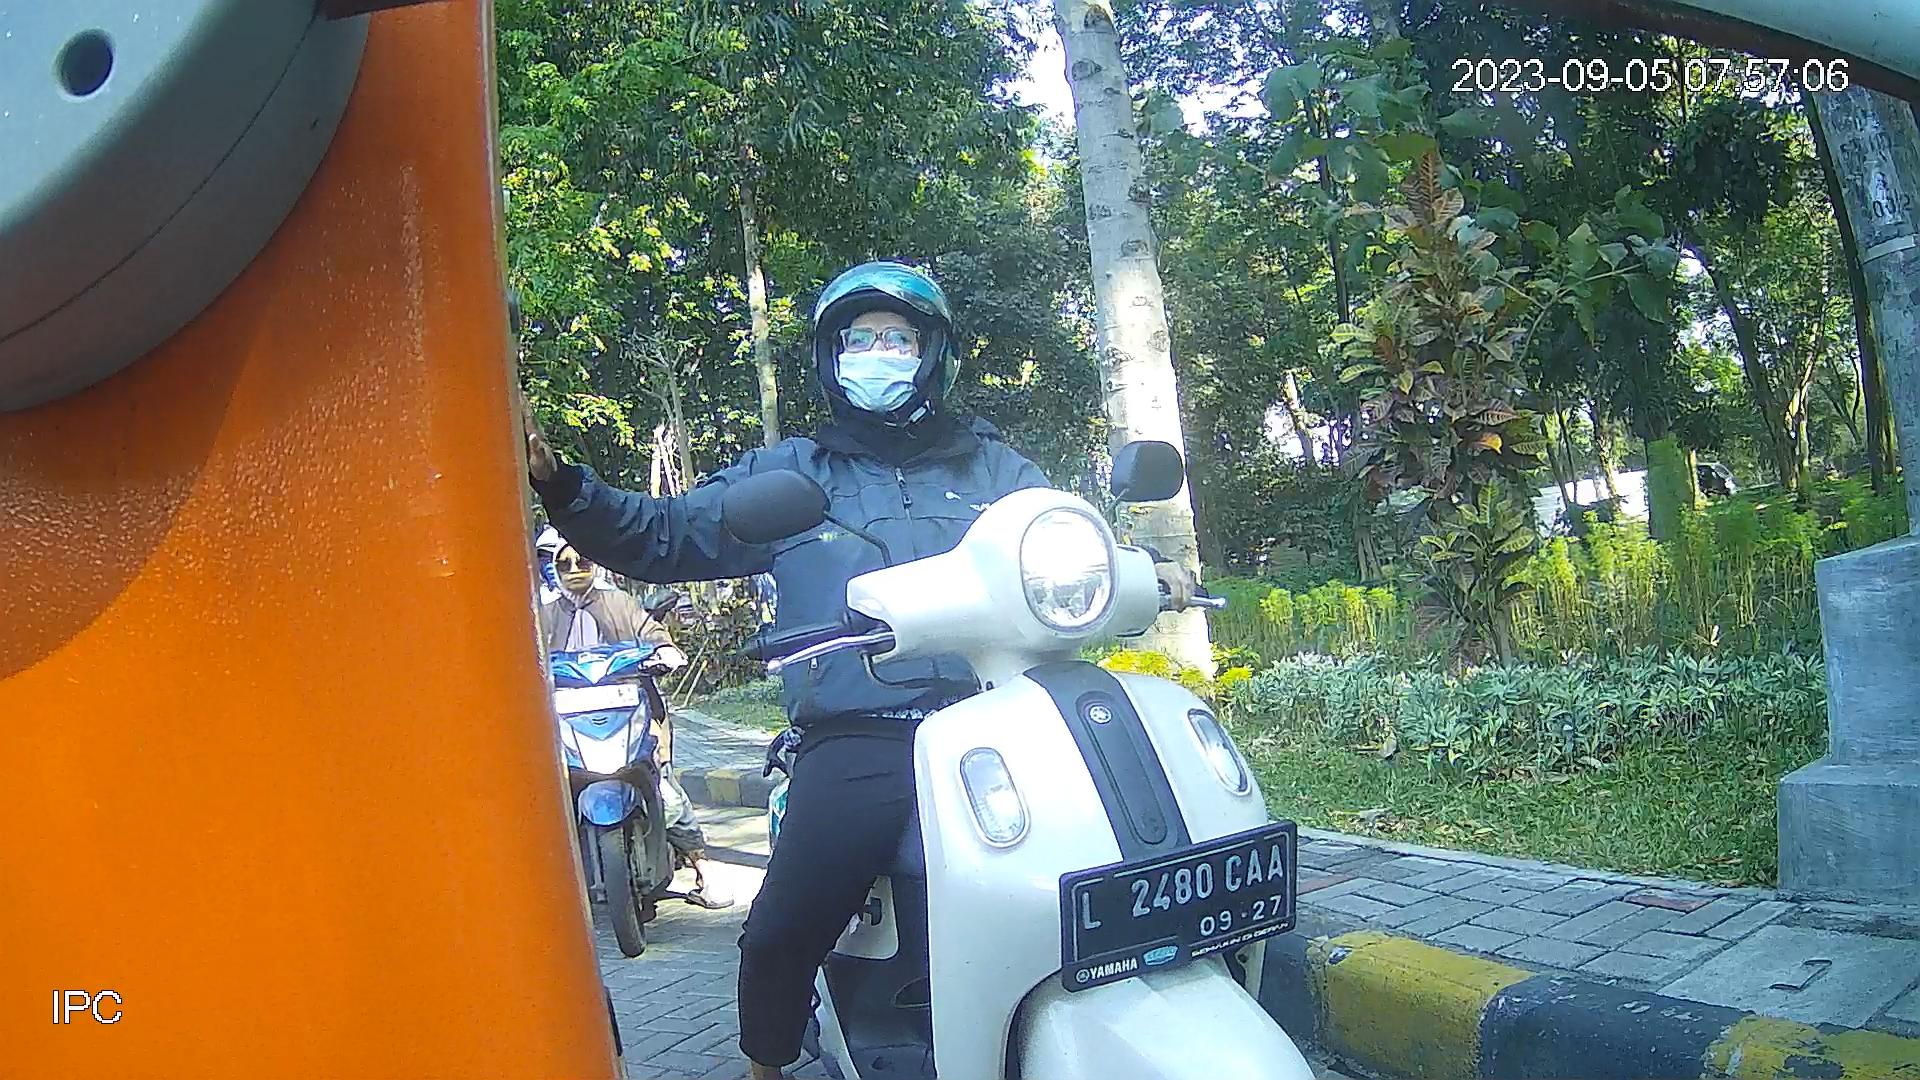plat: (1056, 819, 1299, 998)
